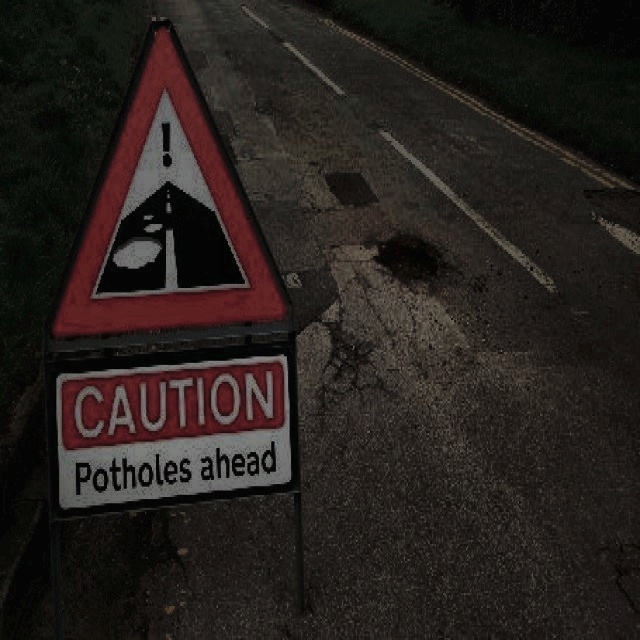Pothole: (373, 230, 453, 292)
